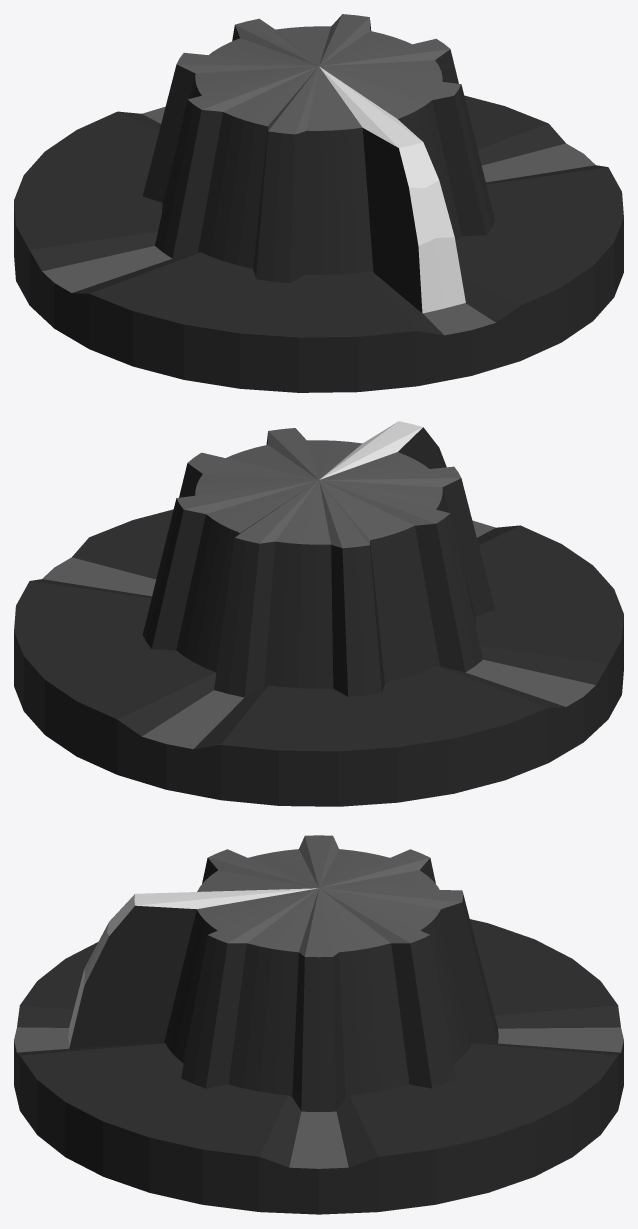
The model's file is dial_fbx.fbx.
3 views of the same model, one above another, from view 1: azimuth 30°, elevation 25°; view 2: azimuth 150°, elevation 25°; view 3: azimuth 270°, elevation 25° (orthographic).
Parts seen in each view (by area): view 1: Base, Rotator; view 2: Base, Rotator; view 3: Base, Rotator.
Part boxes in pixels (x1,y1,x2,y2): Base: (14,95,623,392); Rotator: (143,14,495,313); Base: (14,509,623,806); Rotator: (142,421,495,697); Base: (14,919,623,1214); Rotator: (68,835,498,1111).
Size of the model in its own units: 200 by 71.41 by 200.
1 material, 1 textured.
